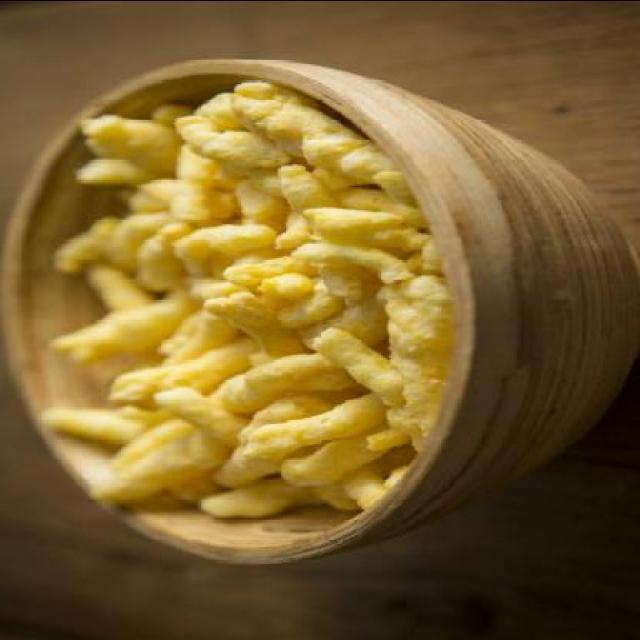Chips packaged: (220, 390, 388, 476), (310, 322, 412, 400), (201, 284, 305, 356), (173, 220, 264, 258)
